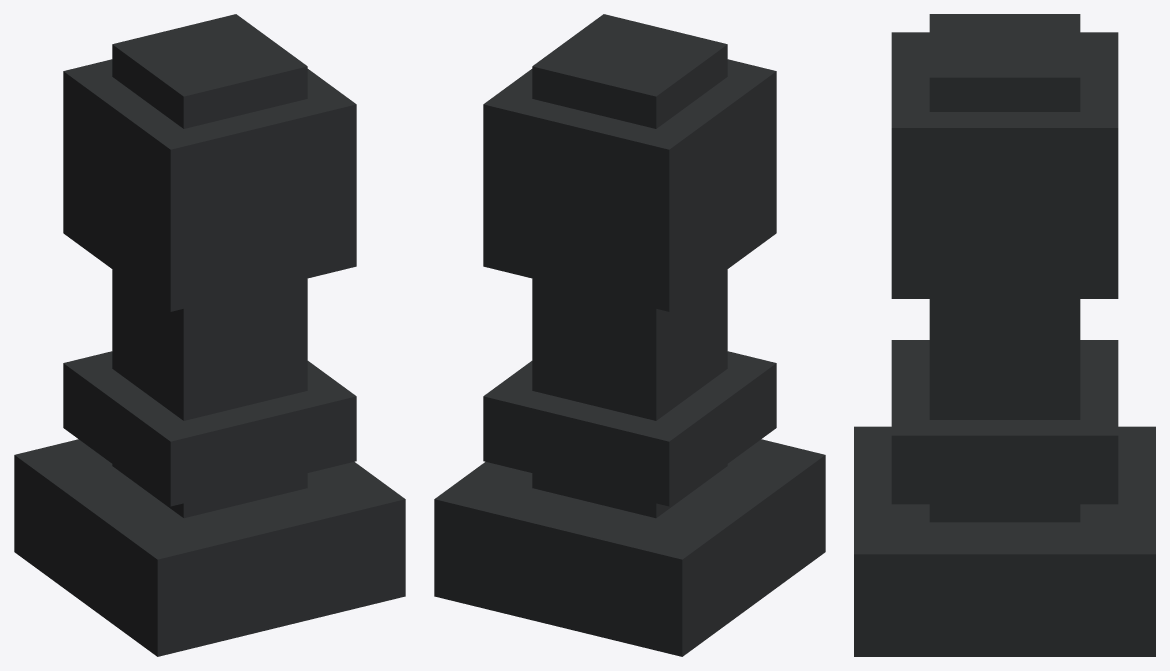
The model's file is token-v2-black.gltf.
The picture shows the model from 3 angles, left to right: view 1: azimuth 30°, elevation 25°; view 2: azimuth 150°, elevation 25°; view 3: azimuth 270°, elevation 25°; orthographic projection. The views are drawn at different scales.
Visible parts, largest first — view 1: Untitled; view 2: Untitled; view 3: Untitled.
Boxes of the visible parts, x1,y1,x2,y2 form: Untitled: (14, 14, 405, 656); Untitled: (434, 14, 825, 656); Untitled: (854, 14, 1155, 656).
Bounding box in the file's own units: 0.8 × 1.6 × 0.8.
1 material, 1 textured.
